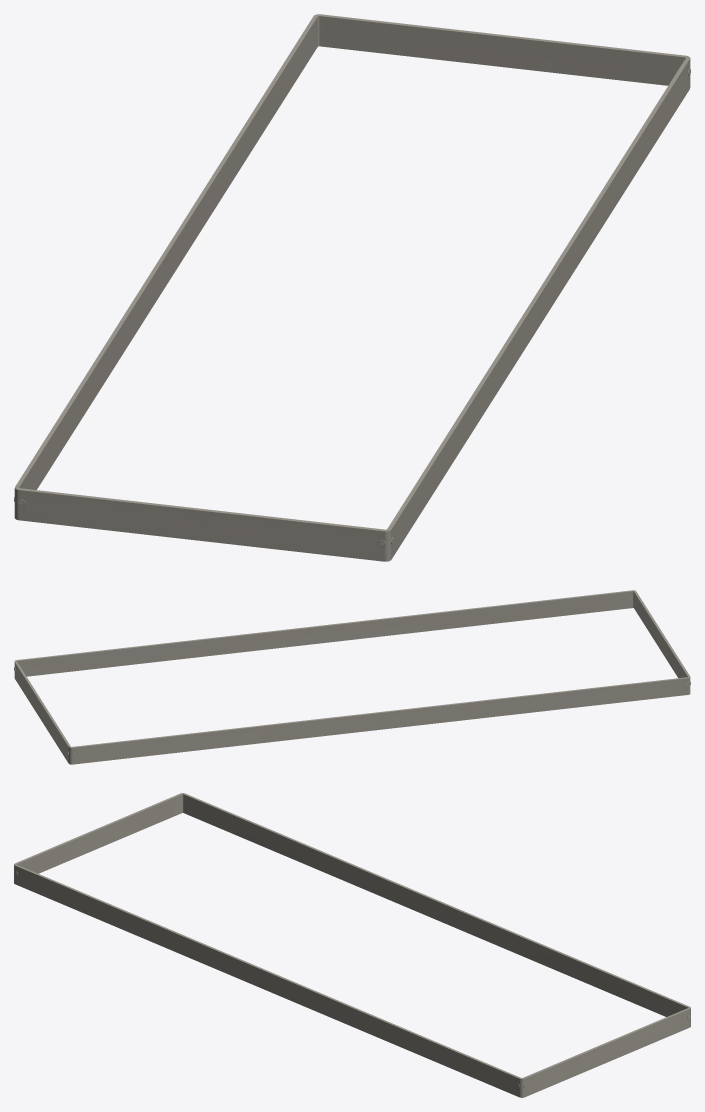
File: top_frame_0101_w1200_d400.glb
3 renders of one model, top to bottom at view 1: azimuth 30°, elevation 25°; view 2: azimuth 150°, elevation 25°; view 3: azimuth 270°, elevation 25°, orthographic. The views are drawn at different scales.
Parts seen in each view (by area): view 1: top_frame_0101_w1200_d400; view 2: top_frame_0101_w1200_d400; view 3: top_frame_0101_w1200_d400.
Part boxes in pixels (box(x1,y1,x2,y2)): top_frame_0101_w1200_d400: box(14, 14, 690, 561); top_frame_0101_w1200_d400: box(14, 590, 690, 764); top_frame_0101_w1200_d400: box(14, 793, 690, 1097).
Size of the model in its own units: 1.12 by 0.0343 by 1.12.
Materials: 1 (1 with a texture image).
